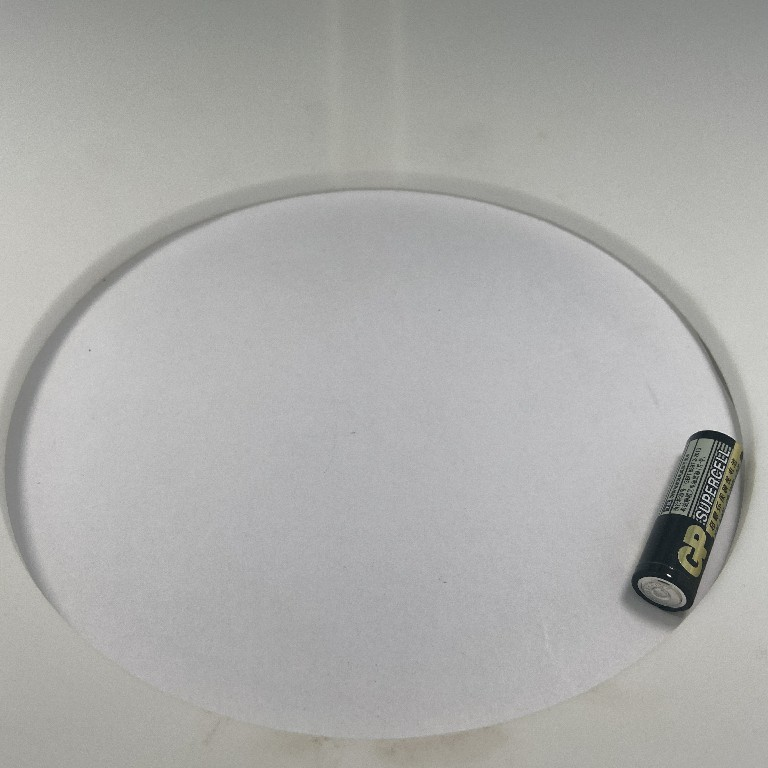charge: (622, 421, 743, 618)
